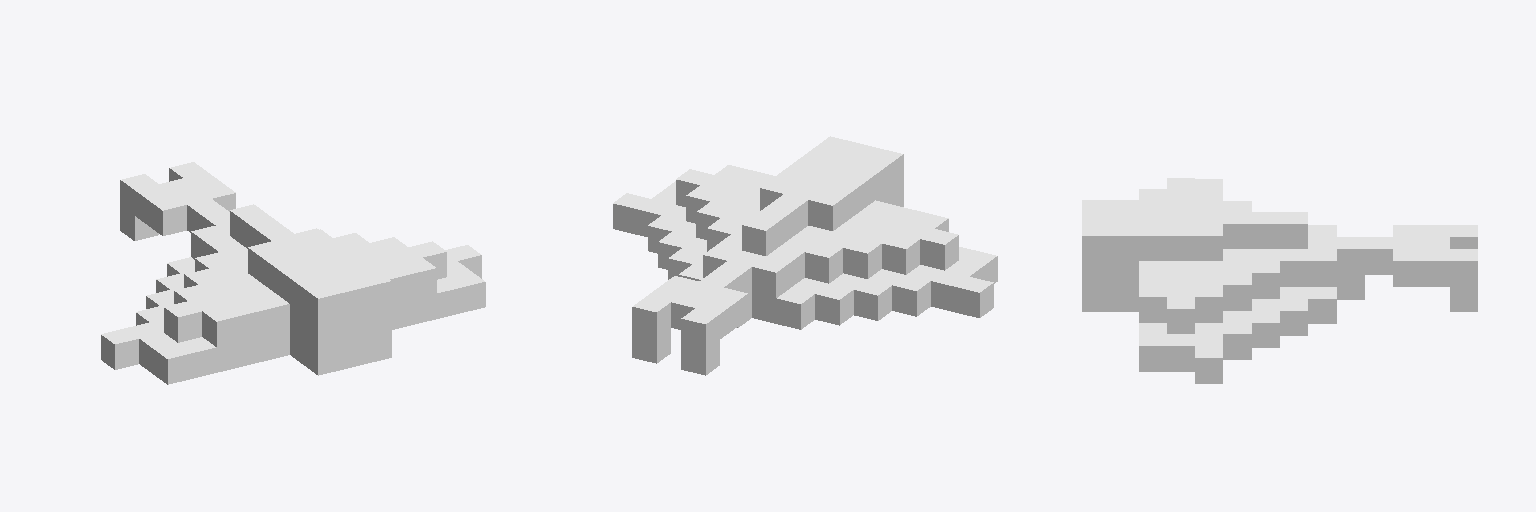
File: Green.obj
The picture shows the model from 3 angles: view 1: azimuth 30°, elevation 25°; view 2: azimuth 150°, elevation 25°; view 3: azimuth 270°, elevation 25°; orthographic projection.
Visible parts, largest first — view 1: Green; view 2: Green; view 3: Green.
Boxes of the visible parts, <box> form: Green: <box>101,162,485,384</box>; Green: <box>613,136,997,375</box>; Green: <box>1082,178,1477,383</box>.
Size of the model in its own units: 15 by 3 by 14.